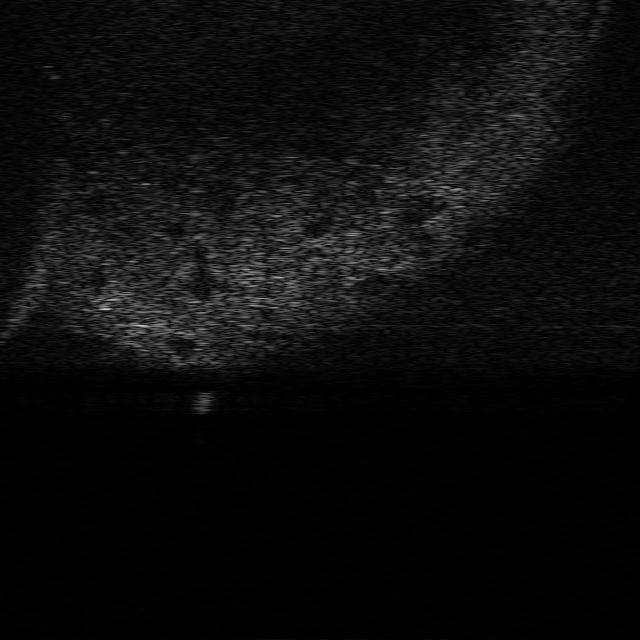cylinder: (189, 390, 215, 415)
